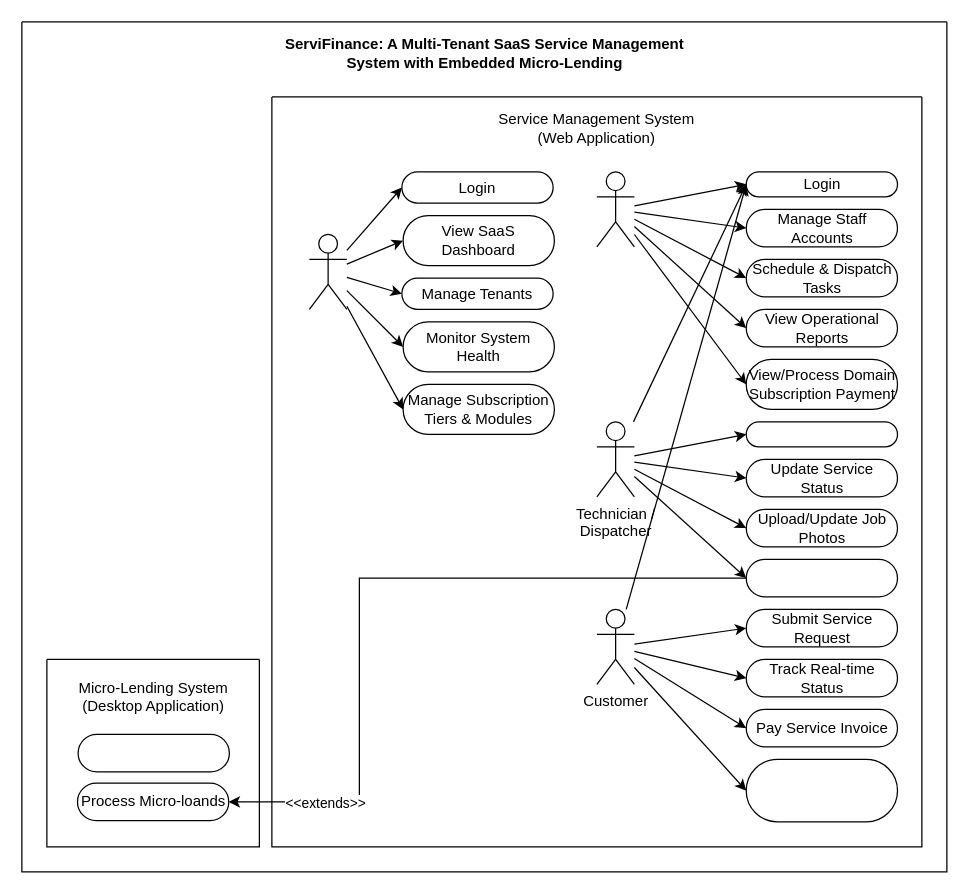
This 969x894 diagram has some shape labels left out. Each missing label, with the centre of its shape:
*other modules...*: the point at 153,752
Finalize Service Invoice: the point at 821,577
Provide Service Feedback and Ratings: the point at 821,790
Super Admin: the point at 327,271
Tenant Admin / Business Owner: the point at 615,209
View Assigned Tasks: the point at 821,434
